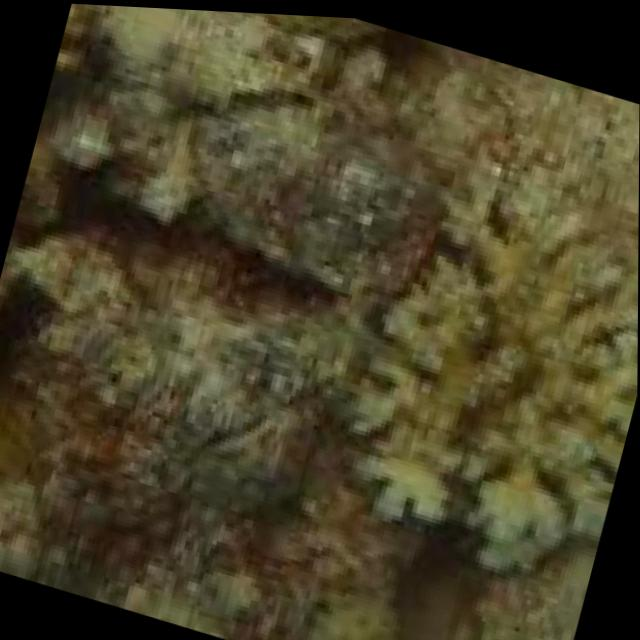Bleached Coral: (270, 25, 640, 640)
